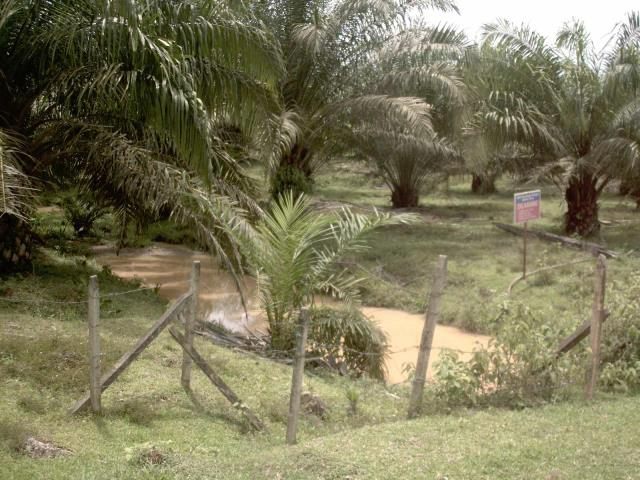ads_sign: (505, 181, 549, 230)
